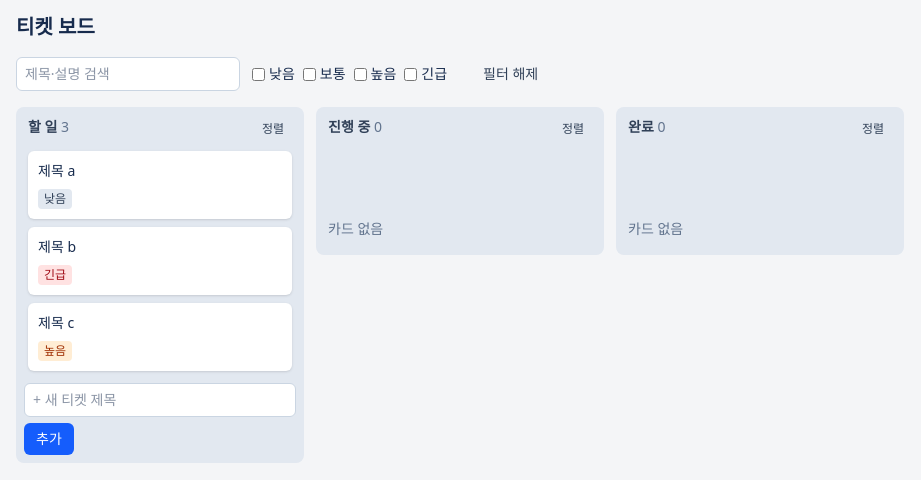
it: 컬럼 정렬 메뉴 (UI-C10) › TC-UI-025: 필터가 적용된 동안에는 정렬 메뉴가 비활성이다
The width and height of the screenshot is (921, 480).
Check: the text "제목 a" is shown, box [38, 161, 75, 181]
What coordinates should you click on to do the following:
click the checkbox labelled "높음"
I would click on:
 (360, 74)
Its box is [354, 68, 366, 80].
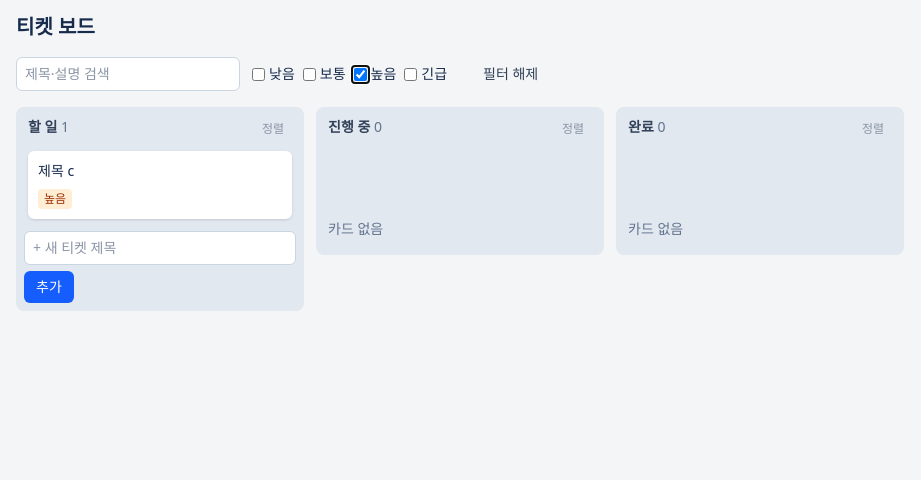
Check: the button "정렬" in the row of "할 일" is disabled, box [254, 119, 292, 139]
